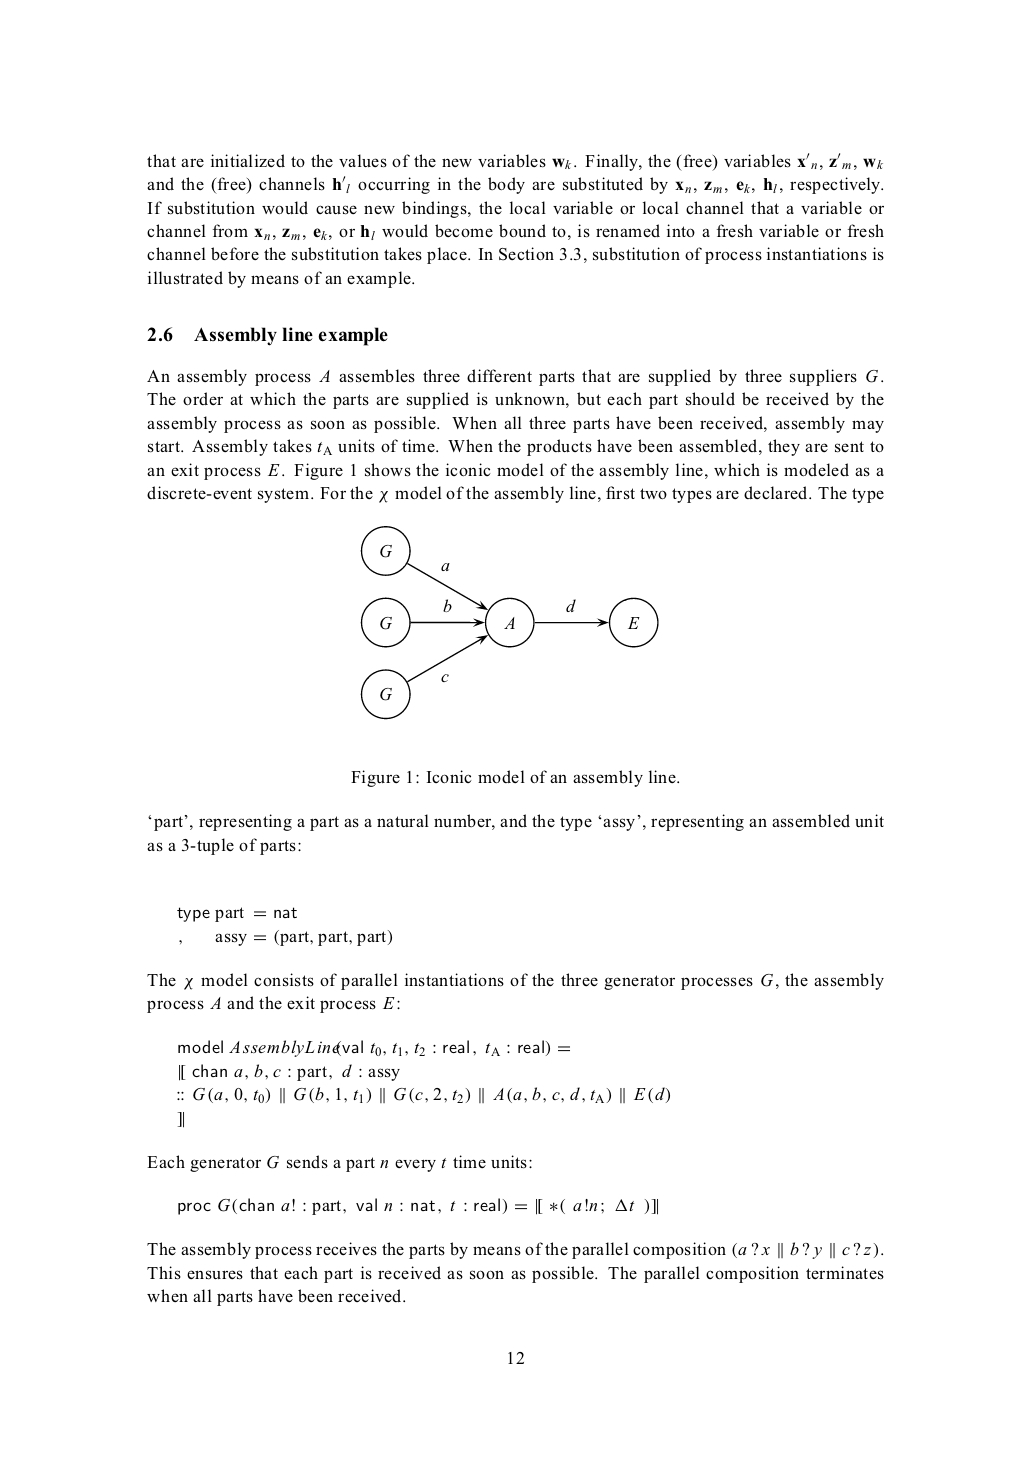figure: (360, 526, 658, 719)
formula: (177, 1085, 669, 1104), (179, 1197, 657, 1215), (179, 1038, 569, 1057), (179, 1062, 399, 1081), (179, 928, 392, 946), (177, 905, 296, 922)
